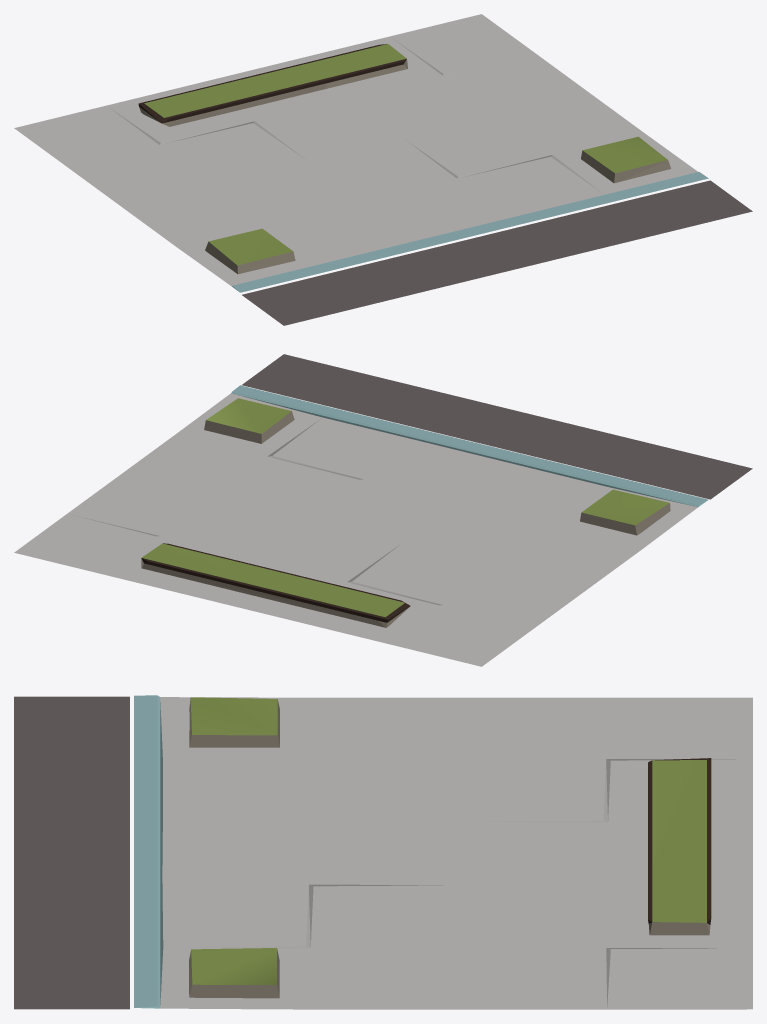
The model's file is Qmdrgd8HRrwgxRLPdLu7oFhbRhhPXrGEk4nRNVHw8XdBTq_lod2.fbx.
3 renders of one model, top to bottom at view 1: azimuth 30°, elevation 25°; view 2: azimuth 150°, elevation 25°; view 3: azimuth 270°, elevation 25°, orthographic. The views are drawn at different scales.
Visible parts, largest first — view 1: Entity_512; view 2: Entity_512; view 3: Entity_512.
Boxes of the visible parts, x1=… form: Entity_512: x1=14, y1=14, x2=752, y2=325; Entity_512: x1=14, y1=354, x2=752, y2=666; Entity_512: x1=14, y1=695, x2=752, y2=1009.
Size of the model in its own units: 15921 by 341 by 15907.
1 material, 1 textured.
